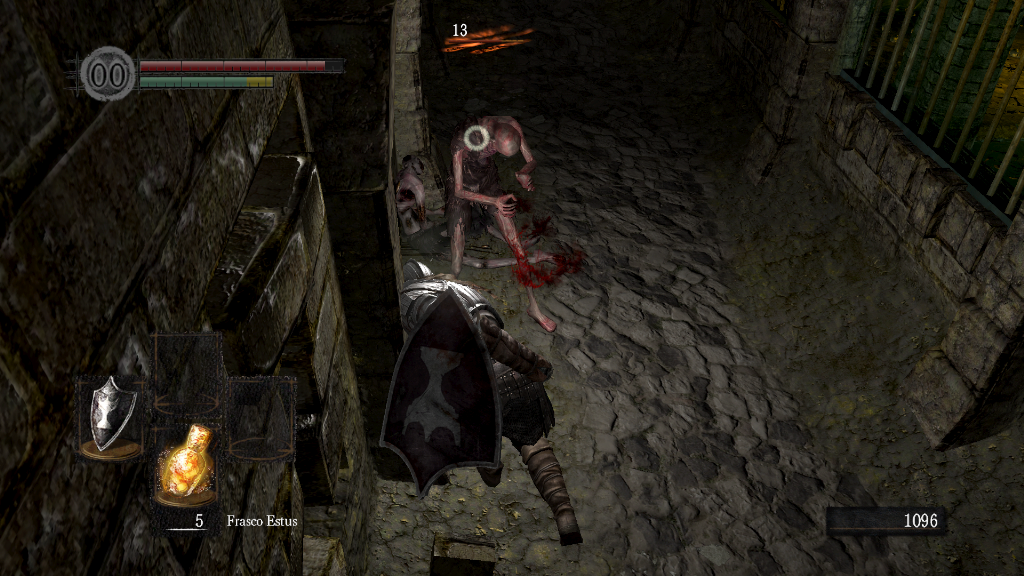health: (138, 58, 343, 71)
hollow: (445, 108, 562, 339)
humanity: (80, 45, 136, 102)
player: (377, 254, 585, 545)
souls: (825, 506, 945, 536)
stamina: (138, 74, 274, 88)
